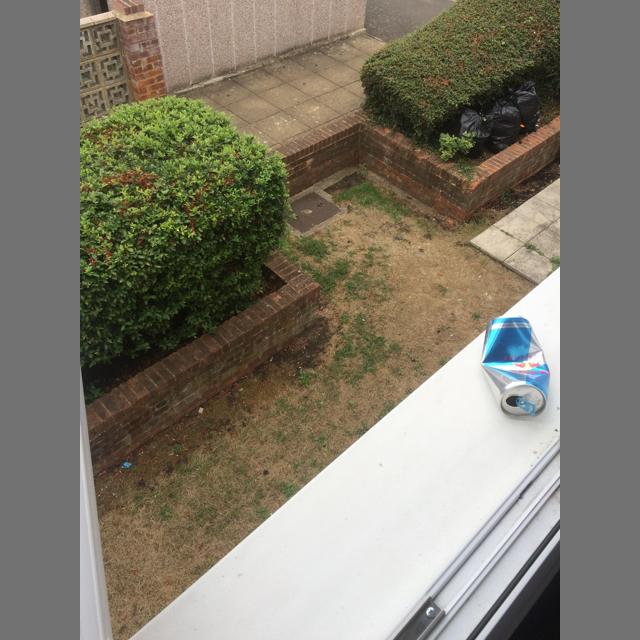litter: (480, 315, 550, 420), (454, 107, 494, 159), (484, 98, 521, 154), (502, 81, 540, 135), (516, 397, 536, 415)
